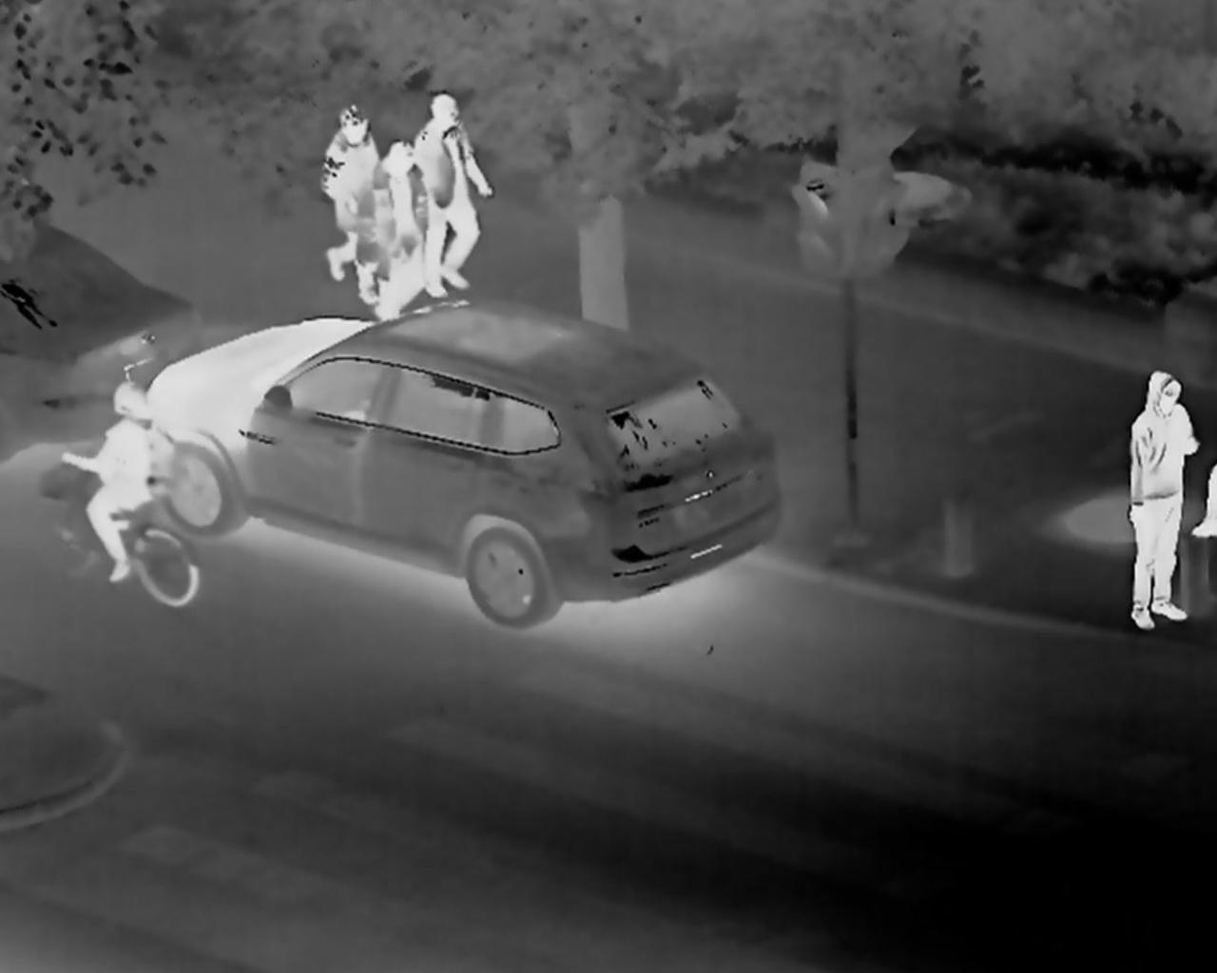person: (61, 376, 178, 583), (1124, 365, 1195, 631), (405, 94, 491, 300), (354, 134, 429, 322), (322, 103, 377, 308)
